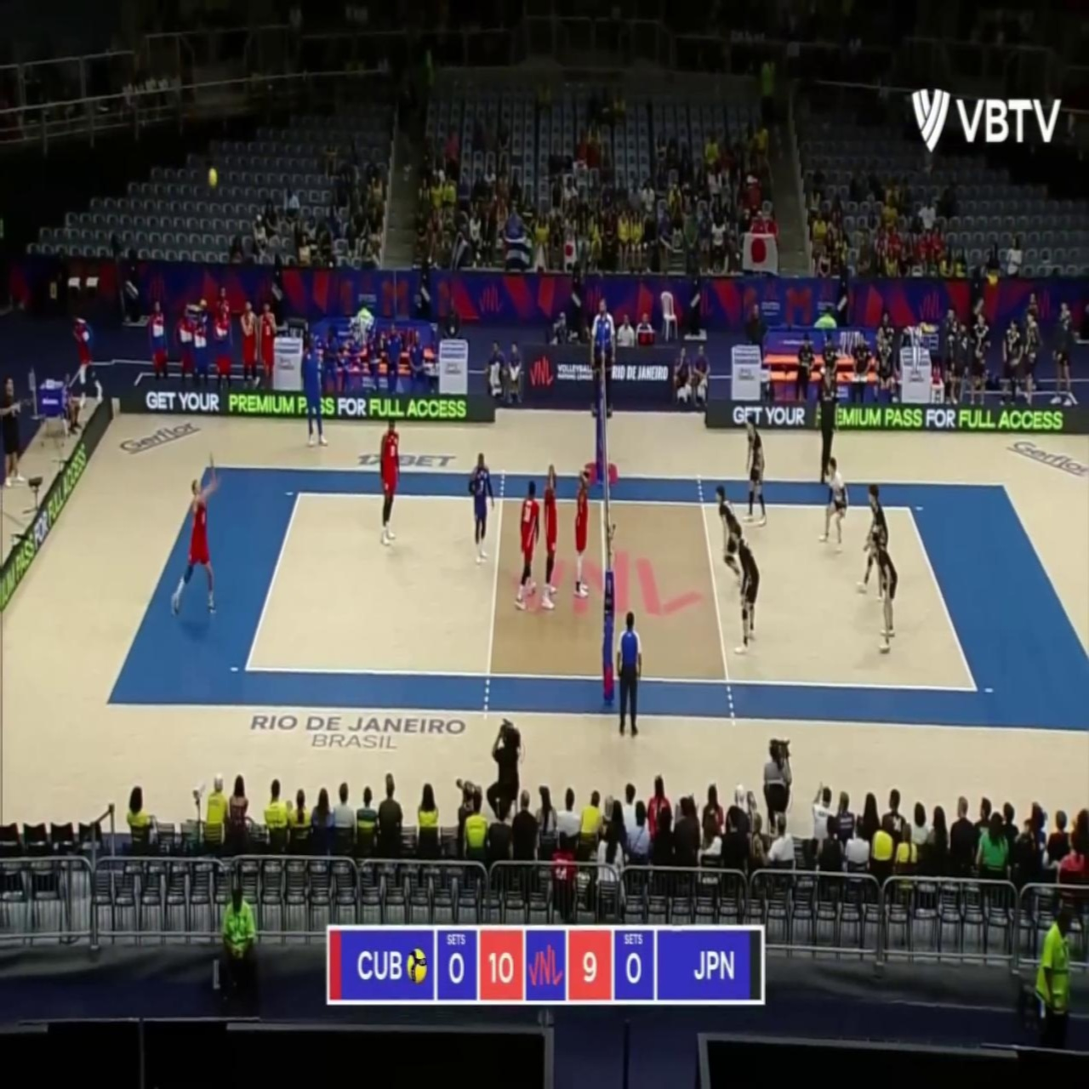ball: (209, 169, 216, 185)
